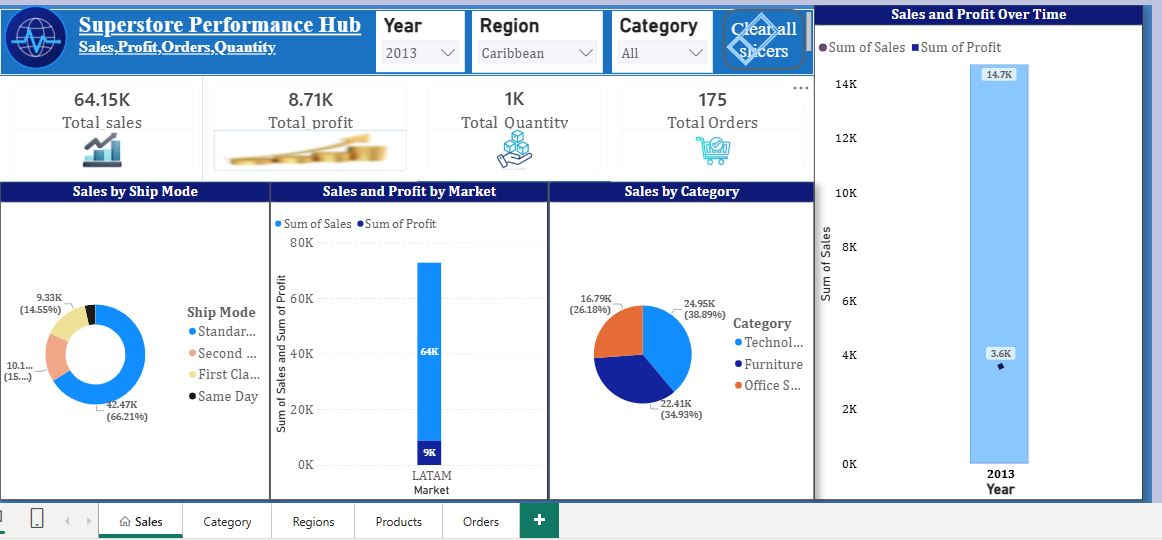

Layout of this report page (visuals, bound fields, positions):
{"tool":"powerbi","page":{"name":"Sales","canvas":[1920,1080],"ordinal":0},"visuals":[{"type":"donutChart","title":"Sales by Ship Mode","fields":{"Category":["Orders.Ship Mode"],"Y":["Sum(Orders.Sales)"]},"box":[0,295,450,530],"z":0},{"type":"lineStackedColumnComboChart","title":" Sales and Profit Over Time","fields":{"Category":["Custom_Calender.Date.Variation.Date Hierarchy.Year"],"Y":["Sum(Orders.Sales)"],"Y2":["Sum(Orders.Profit)"]},"box":[1356.7,0,548.3,825],"z":1000},{"type":"ribbonChart","title":"Sales and Profit by Market","fields":{"Category":["Orders.Market"],"Y":["Sum(Orders.Sales)","Sum(Orders.Profit)"]},"box":[450,295,463.3,530],"z":2000},{"type":"cardVisual","fields":{"Data":["Profit-measures.Total_sales"]},"box":[0,119,338.1,176.2],"z":3000},{"type":"cardVisual","fields":{"Data":["Profit-measures.Totl_qunatity"]},"box":[695.2,119,323.8,174.6],"z":4000},{"type":"pieChart","title":" Sales by Category","fields":{"Category":["Orders.Category"],"Y":["Sum(Orders.Sales)"]},"box":[915,295,441.7,530],"z":5000},{"type":"cardVisual","fields":{"Data":["Profit-measures.Total Orders"]},"box":[1019,119,338.1,176.2],"z":6000},{"type":"textbox","title":"Superstore Performance Hub","box":[0,6.3,1357.1,111.1],"z":7000},{"type":"slicer","fields":{"Values":["Orders.Category"]},"box":[1020,10,168.3,103.2],"z":8000},{"type":"slicer","fields":{"Values":["Orders.Region"]},"box":[786.7,10,218.3,103.3],"z":9000},{"type":"cardVisual","fields":{"Data":["Profit-measures.Total_profit"]},"box":[338.1,119,357.1,176.2],"z":10000},{"type":"image","box":[0,0,119,107.9],"z":11000},{"type":"slicer","fields":{"Values":["Custom_Calender.Date.Variation.Date Hierarchy.Year"]},"box":[626.7,10,148.3,101.7],"z":12000},{"type":"actionButton","box":[1205,6.7,136.7,101.7],"z":13000}]}

Visuals, with their boxes on the page's 1920x1080 design canvas (x1, y1, x2, y2). These are canvas units, not pixel positions in the 1162x540 screenshot, which may show the page scaled, cropped or inside an application window:
"Sales by Ship Mode" donutChart: {"left": 0, "top": 295, "right": 450, "bottom": 825}
" Sales and Profit Over Time" lineStackedColumnComboChart: {"left": 1357, "top": 0, "right": 1905, "bottom": 825}
"Sales and Profit by Market" ribbonChart: {"left": 450, "top": 295, "right": 913, "bottom": 825}
cardVisual - Profit-measures.Total_sales: {"left": 0, "top": 119, "right": 338, "bottom": 295}
cardVisual - Profit-measures.Totl_qunatity: {"left": 695, "top": 119, "right": 1019, "bottom": 294}
" Sales by Category" pieChart: {"left": 915, "top": 295, "right": 1357, "bottom": 825}
cardVisual - Profit-measures.Total Orders: {"left": 1019, "top": 119, "right": 1357, "bottom": 295}
"Superstore Performance Hub" textbox: {"left": 0, "top": 6, "right": 1357, "bottom": 117}
slicer - Orders.Category: {"left": 1020, "top": 10, "right": 1188, "bottom": 113}
slicer - Orders.Region: {"left": 787, "top": 10, "right": 1005, "bottom": 113}
cardVisual - Profit-measures.Total_profit: {"left": 338, "top": 119, "right": 695, "bottom": 295}
image: {"left": 0, "top": 0, "right": 119, "bottom": 108}
slicer - Custom_Calender.Date.Variation.Date Hierarchy.Year: {"left": 627, "top": 10, "right": 775, "bottom": 112}
actionButton: {"left": 1205, "top": 7, "right": 1342, "bottom": 108}
